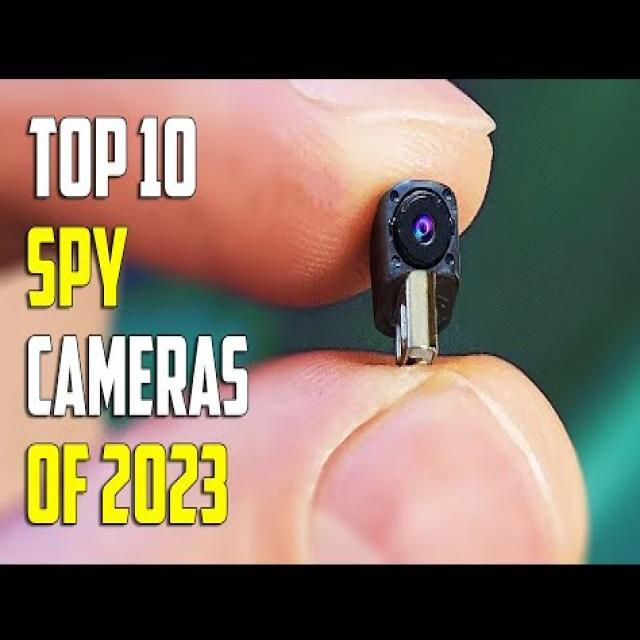hidden camera: (364, 159, 477, 296)
